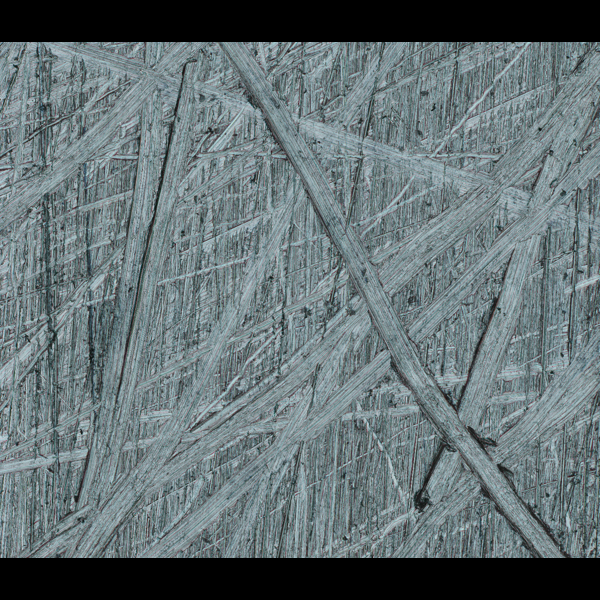d: (5, 42, 595, 555)
